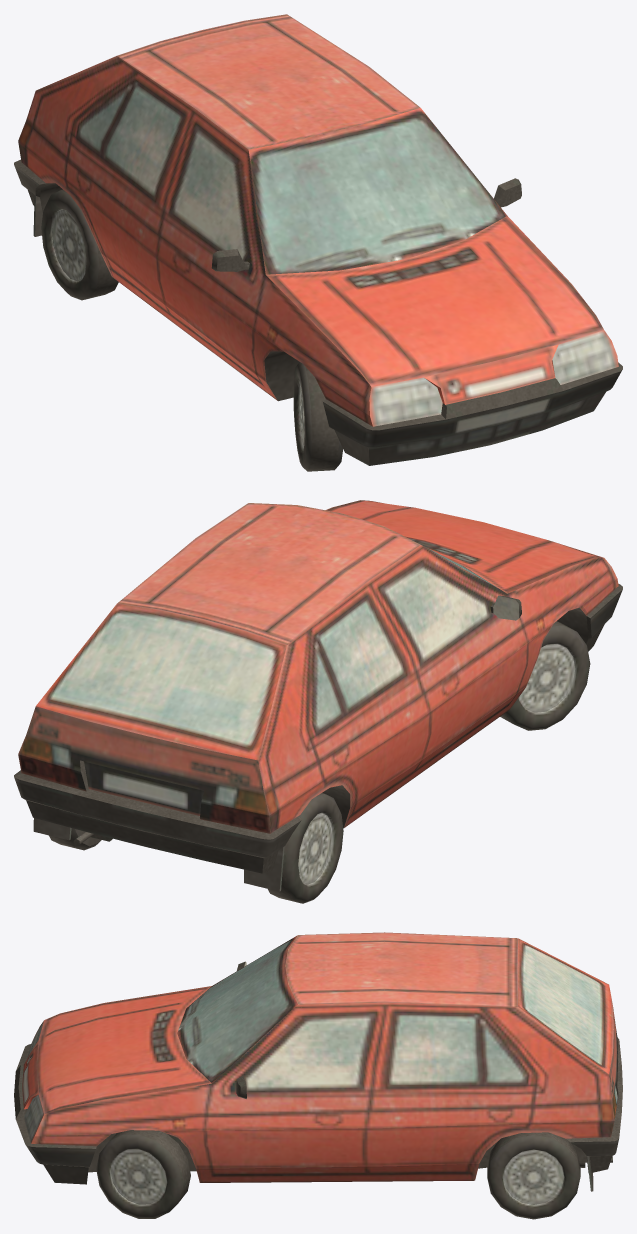
Rendered from car-favorit.glb.
3 views of the same model, one above another, from view 1: azimuth 30°, elevation 25°; view 2: azimuth 150°, elevation 25°; view 3: azimuth 270°, elevation 25° (orthographic). The views are drawn at different scales.
Visible parts, largest first — view 1: favorit_favorit_0; view 2: favorit_favorit_0; view 3: favorit_favorit_0.
Part boxes in pixels (<box>): favorit_favorit_0: <box>14,14,622,471</box>; favorit_favorit_0: <box>14,500,622,903</box>; favorit_favorit_0: <box>14,932,622,1219</box>.
Bounding box in the file's own units: 1.82 × 1.42 × 3.78.
Materials: 1 (1 with a texture image).
